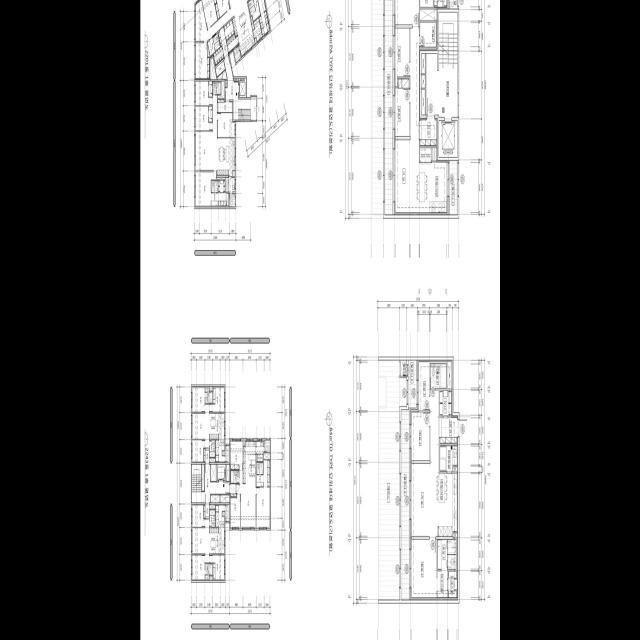background: (140, 0, 500, 640)
space_balconi: (384, 0, 392, 215), (401, 410, 409, 600), (449, 161, 457, 215), (408, 360, 416, 408), (233, 46, 241, 63), (229, 194, 235, 207)
space_bedroom: (410, 540, 436, 600), (410, 410, 429, 461), (394, 78, 409, 136), (394, 28, 409, 86), (195, 172, 216, 207), (394, 0, 419, 25), (418, 360, 429, 411), (256, 487, 269, 527), (195, 43, 209, 79), (202, 0, 217, 29), (195, 106, 212, 131), (195, 81, 212, 105), (218, 113, 235, 137), (230, 441, 243, 470), (209, 555, 224, 580), (209, 388, 224, 412), (192, 555, 205, 580), (230, 495, 240, 527), (192, 388, 204, 412), (215, 0, 229, 20), (192, 440, 204, 462), (192, 505, 204, 527), (208, 106, 212, 122), (208, 81, 212, 97)
space_dressroom: (437, 571, 447, 600), (259, 11, 270, 37), (448, 572, 457, 600), (263, 460, 269, 487), (218, 193, 228, 206), (434, 0, 448, 9), (218, 181, 225, 192)
space_elevator: (439, 121, 457, 157), (239, 78, 246, 97), (217, 465, 225, 480)
space_elevator_hall: (224, 56, 256, 120), (426, 54, 457, 117), (201, 465, 229, 503)
space_front: (439, 416, 457, 444), (420, 118, 437, 146), (439, 390, 452, 416), (218, 27, 228, 58), (213, 47, 224, 66), (224, 20, 234, 40), (217, 99, 232, 112), (203, 449, 209, 463), (230, 484, 236, 497), (203, 505, 209, 518)
space_kitchen: (419, 161, 448, 215), (437, 473, 457, 536), (232, 3, 255, 57), (209, 505, 224, 554), (209, 414, 224, 463), (217, 138, 235, 177), (243, 442, 255, 484)
space_living_room: (394, 28, 420, 215), (410, 390, 439, 536), (195, 0, 247, 41), (195, 95, 217, 170), (236, 471, 256, 527), (192, 519, 209, 563), (192, 405, 209, 448)
space_multipurpose_space: (440, 446, 457, 471)
space_other: (226, 34, 238, 53), (253, 18, 262, 42), (419, 9, 437, 20), (215, 61, 225, 77), (420, 148, 431, 162), (256, 442, 264, 461), (225, 178, 235, 193), (210, 58, 217, 79), (447, 360, 452, 389), (218, 81, 224, 99), (421, 90, 425, 115), (210, 465, 216, 481), (217, 70, 227, 79), (421, 54, 425, 73), (220, 495, 229, 503), (210, 495, 219, 503), (432, 148, 437, 161), (202, 464, 204, 491), (421, 75, 425, 88), (226, 465, 229, 481), (251, 16, 254, 30), (207, 45, 210, 57), (209, 458, 215, 463), (263, 454, 269, 459), (209, 505, 215, 509), (453, 467, 457, 472), (453, 533, 457, 538), (254, 38, 257, 44), (217, 178, 225, 180), (233, 78, 238, 81), (232, 171, 235, 176), (209, 576, 212, 580), (225, 81, 227, 87), (243, 441, 245, 446), (209, 388, 212, 391), (222, 451, 224, 455), (222, 512, 224, 516)
space_outdoor_room: (400, 360, 406, 376), (264, 440, 270, 452), (449, 0, 457, 9), (225, 446, 229, 463), (225, 505, 229, 522)
space_staircase: (439, 12, 457, 71), (192, 465, 201, 503), (238, 109, 250, 120)
space_toilet: (420, 22, 436, 47), (430, 364, 446, 388), (437, 540, 447, 569), (248, 0, 260, 21), (256, 463, 263, 486), (207, 38, 215, 56), (447, 540, 456, 554), (447, 555, 456, 569), (258, 0, 266, 15), (205, 388, 212, 403), (205, 564, 212, 579), (209, 510, 215, 527), (209, 440, 215, 457), (231, 471, 239, 483), (212, 82, 220, 94), (211, 193, 218, 206), (213, 33, 219, 44), (214, 40, 220, 51), (214, 181, 218, 193), (211, 181, 214, 193)
